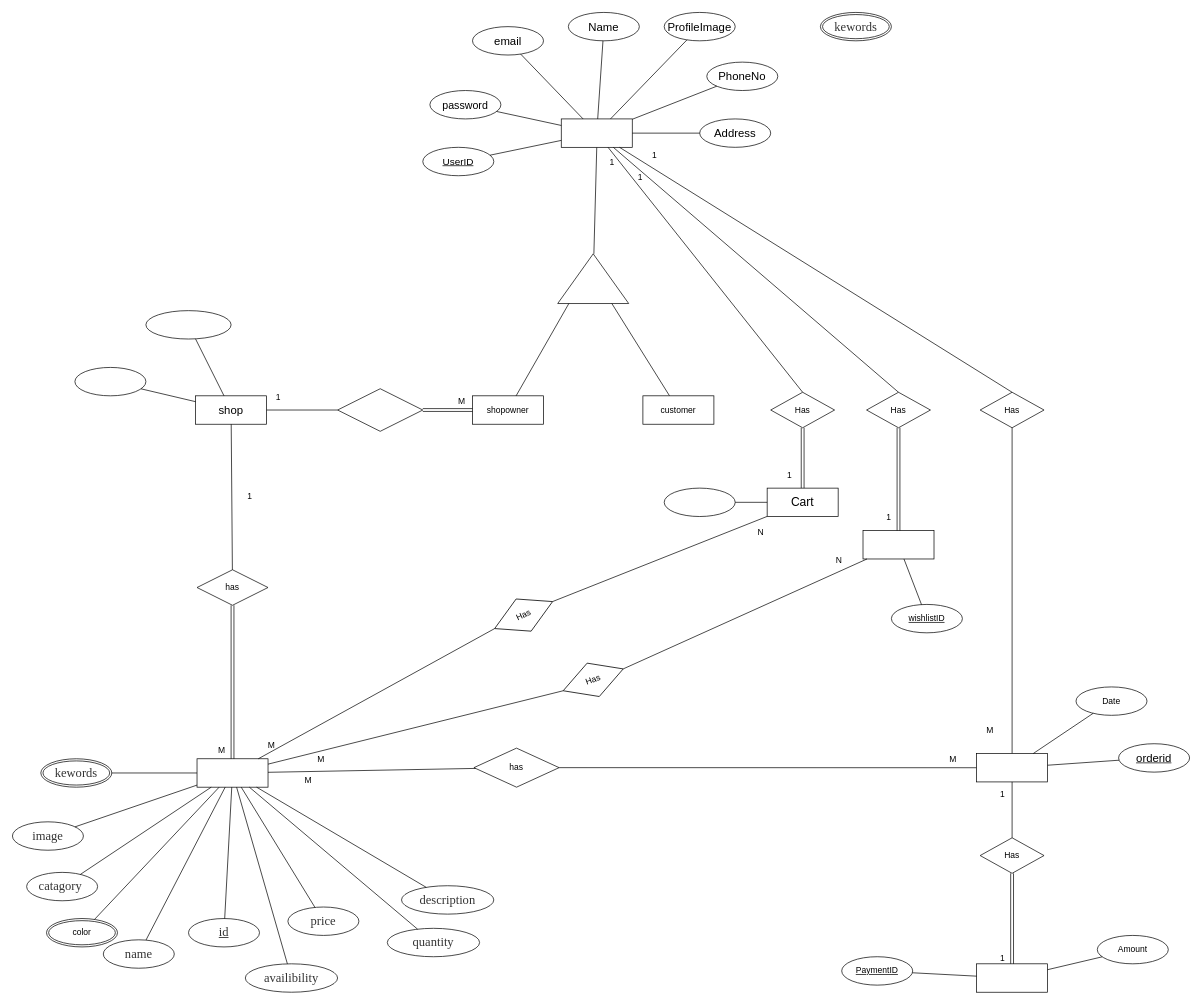
Image size: 1202x1005. Some labels were removed from this diagram. The box of each missing label's shape, as (x1, y1, x2, y2) in pixels:
cartID: (663, 487, 735, 517)
Is A: (557, 253, 629, 304)
order: (976, 753, 1048, 782)
owns: (337, 388, 423, 431)
Payment: (976, 963, 1048, 992)
Product: (196, 758, 268, 787)
shopID: (74, 367, 146, 396)
shopname: (145, 310, 231, 339)
User: (561, 118, 632, 147)
wishlist: (862, 530, 934, 559)
